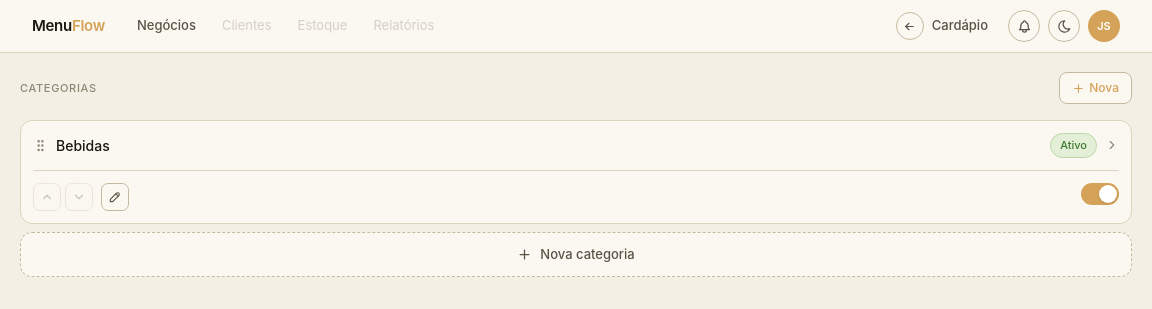
Test: MenuCategories — adicionar › exibe input ao clicar em Nova
Click the button with test id "btn-add-category" at x=1096, y=88, box [1059,72,1132,104]
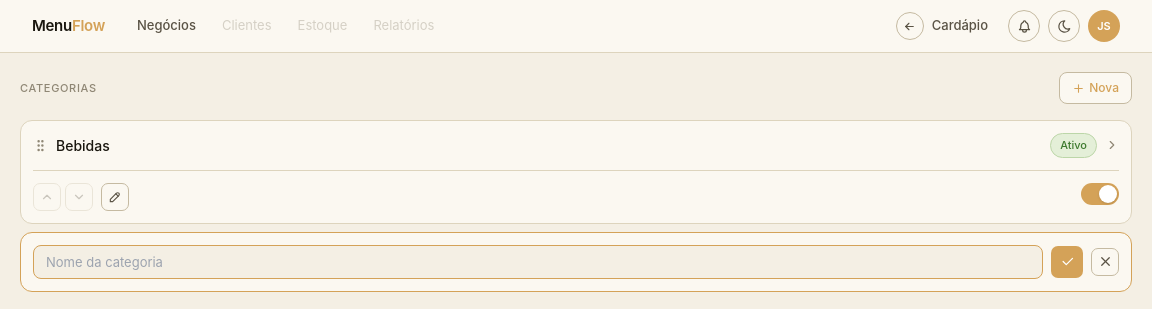
expect the field with test id "add-input" is shown: met, box [33,244,1043,278]
